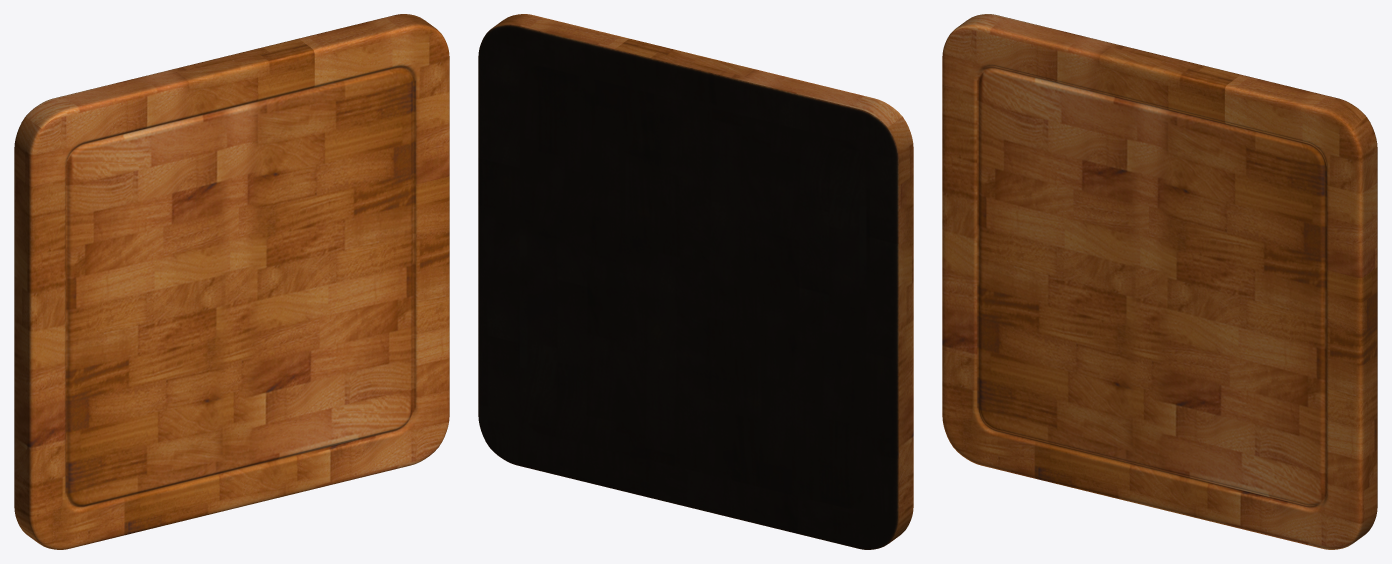
Rendered from 10330_Wooden Cutting Board_v2_max2010_it2.obj.
3 views of the same model, side by side, from view 1: azimuth 30°, elevation 25°; view 2: azimuth 150°, elevation 25°; view 3: azimuth 330°, elevation 25° (orthographic).
Parts seen in each view (by area): view 1: 10330_Wooden_Cutting_Board_v1; view 2: 10330_Wooden_Cutting_Board_v1; view 3: 10330_Wooden_Cutting_Board_v1.
Boxes of the visible parts, x1=… form: 10330_Wooden_Cutting_Board_v1: x1=14, y1=14, x2=449, y2=549; 10330_Wooden_Cutting_Board_v1: x1=478, y1=14, x2=913, y2=549; 10330_Wooden_Cutting_Board_v1: x1=942, y1=14, x2=1377, y2=549.
Size of the model in its own units: 36 by 36 by 2.54.
1 material, 1 textured.
